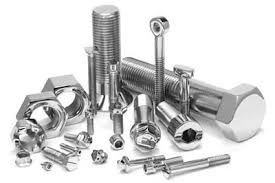metal: (114, 52, 269, 144), (89, 3, 131, 112), (37, 71, 98, 131), (140, 13, 173, 122), (14, 89, 73, 144), (153, 100, 207, 155), (127, 90, 162, 151), (163, 152, 235, 177), (9, 117, 50, 151), (117, 150, 175, 174), (40, 144, 84, 170), (141, 155, 183, 179), (63, 130, 95, 148)
